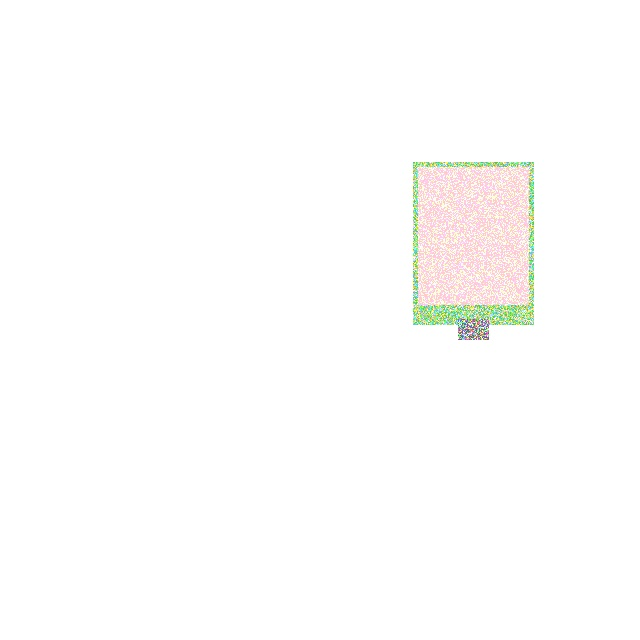Ordinateur: (412, 162, 533, 325)
